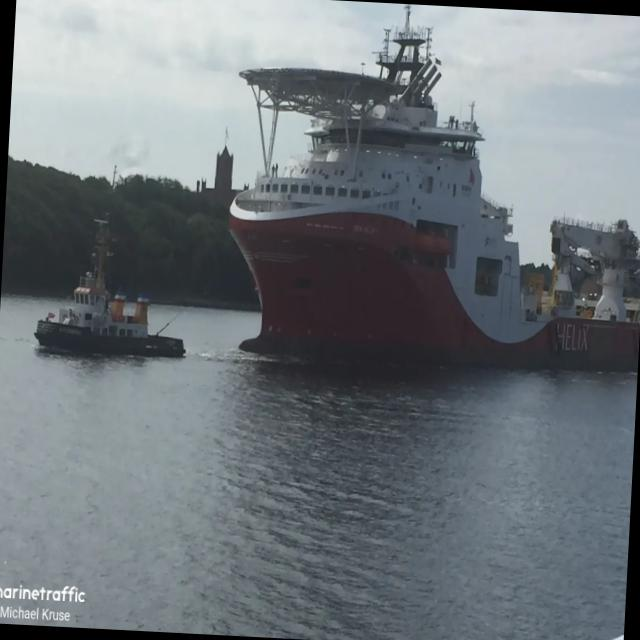Offshore: (229, 6, 640, 370)
Tug: (35, 220, 185, 358)
